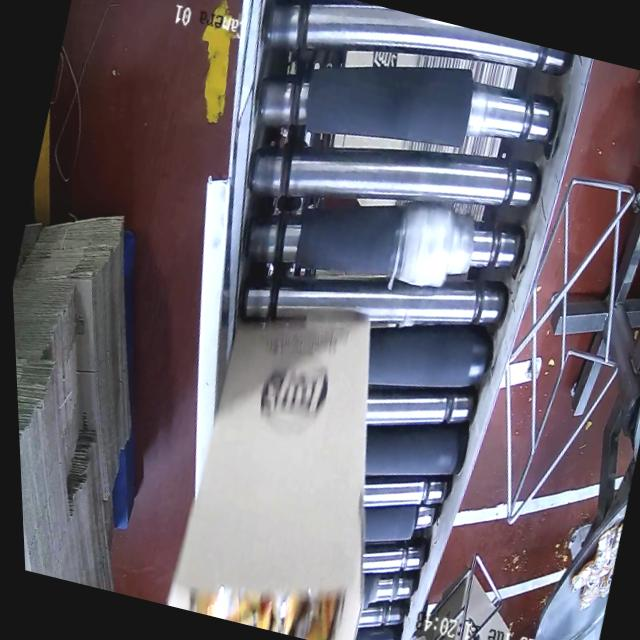FRENCH_CHEESE: (193, 562, 340, 640)
